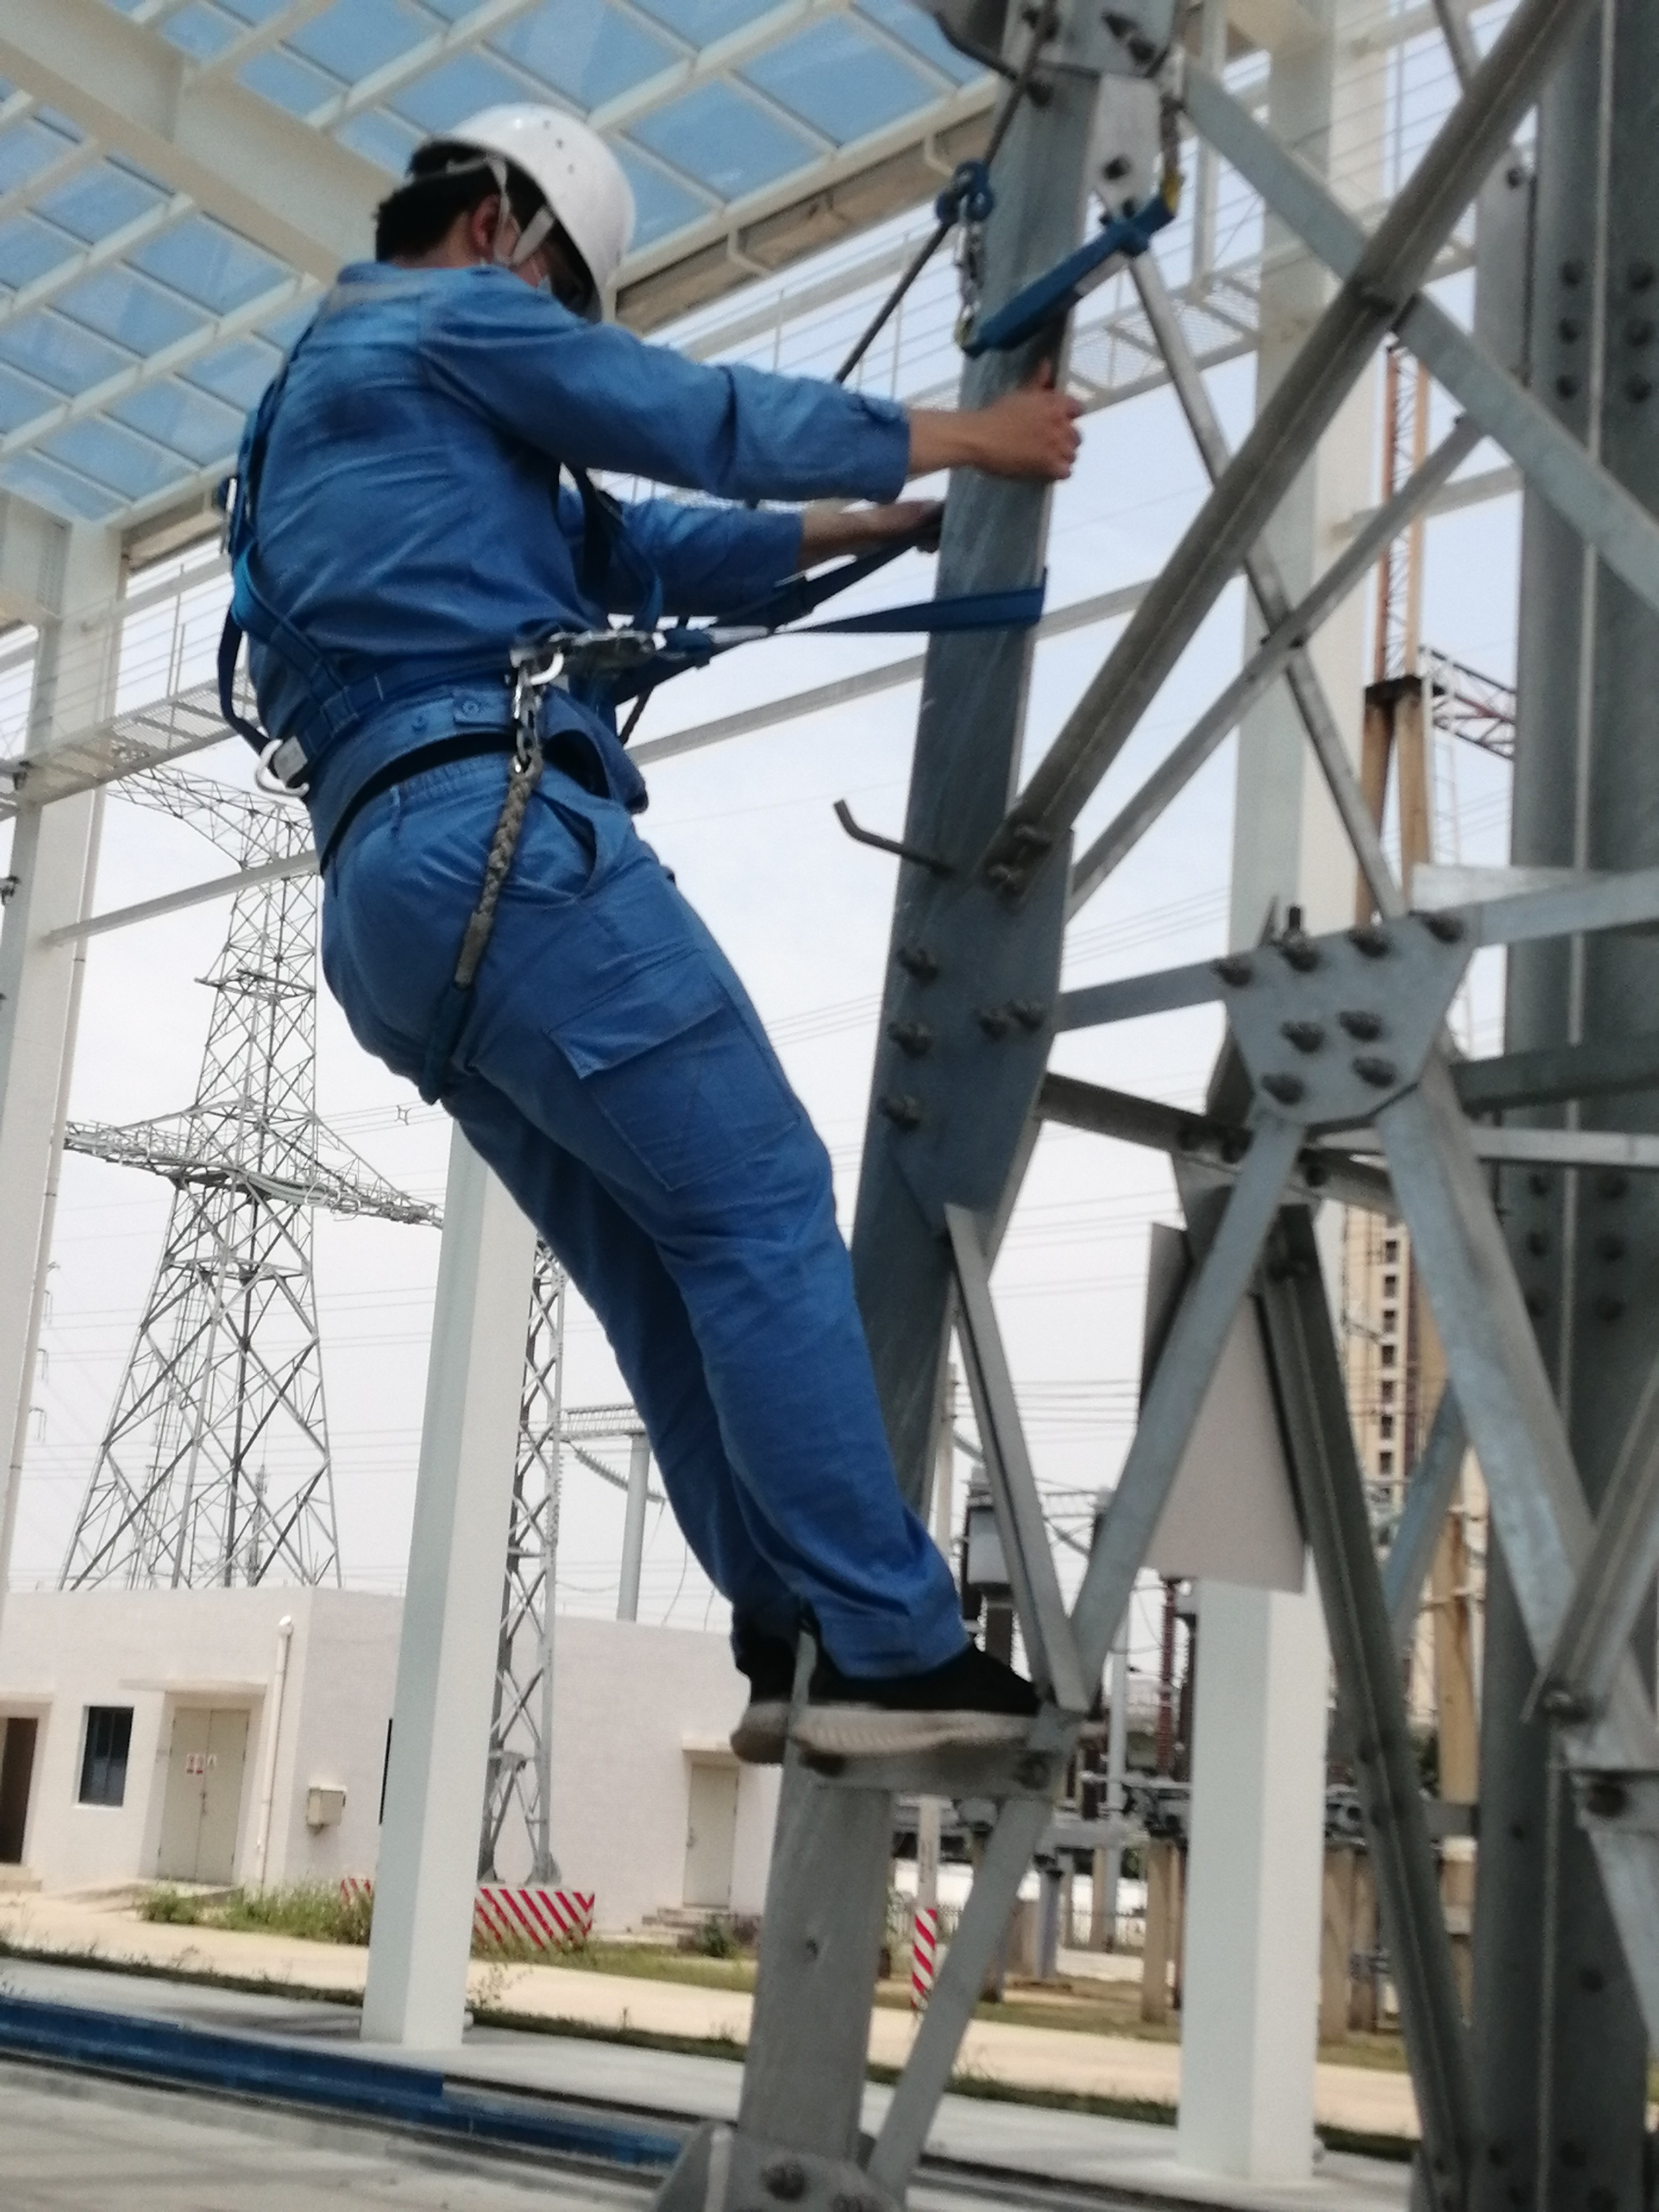downsuit: (303, 768, 972, 1679)
upsuit: (220, 261, 877, 765)
